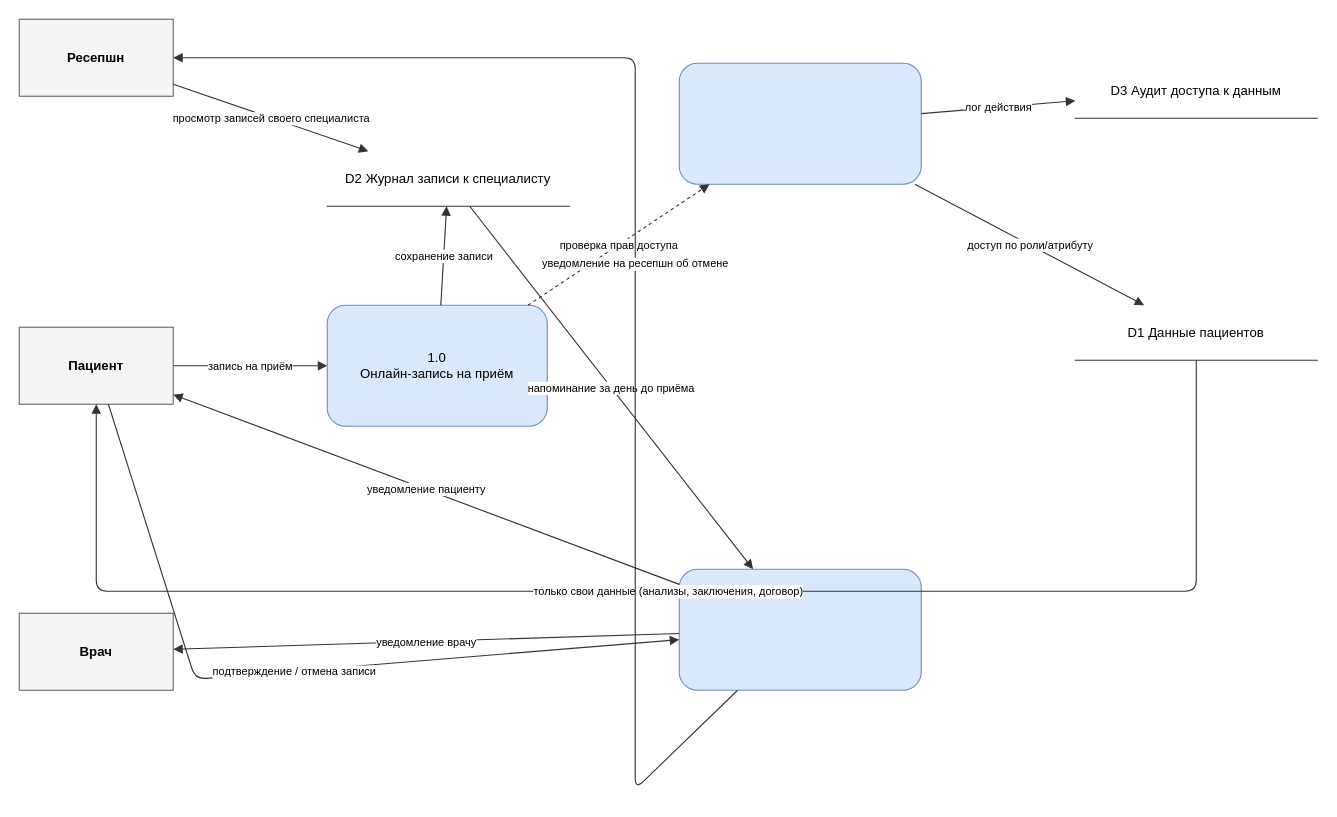
Image size: 1337x817. Some labels were removed from this diagram. The box of each missing label's shape, as (x1, y1, x2, y2) in pixels:
2.0 Управление доступом (RBAC / ABAC): (678, 62, 921, 184)
3.0 Уведомления (приложение / звонок): (678, 568, 921, 690)
